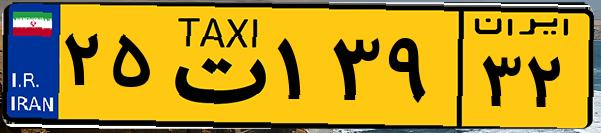1: (270, 28, 330, 110)
2: (57, 26, 110, 100), (525, 38, 570, 115)
3: (330, 28, 385, 110), (475, 38, 525, 113)
5: (110, 28, 158, 98)
9: (385, 28, 445, 110)
ت: (158, 12, 270, 120)
